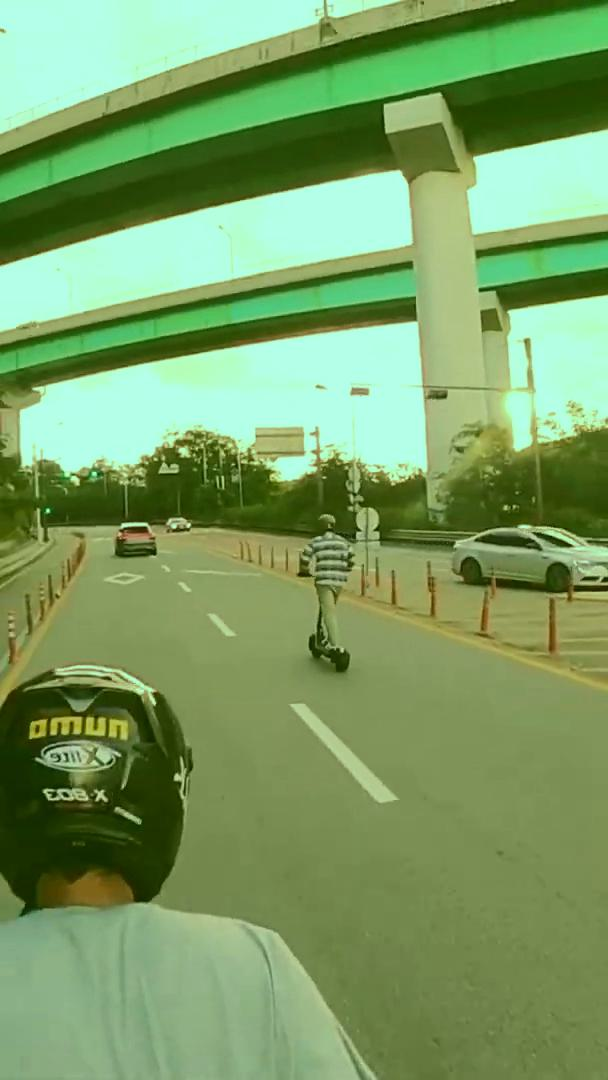helmet: (293, 508, 360, 674)
